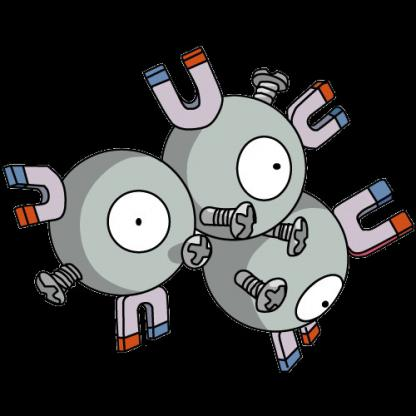Magneton: (1, 38, 416, 389)
